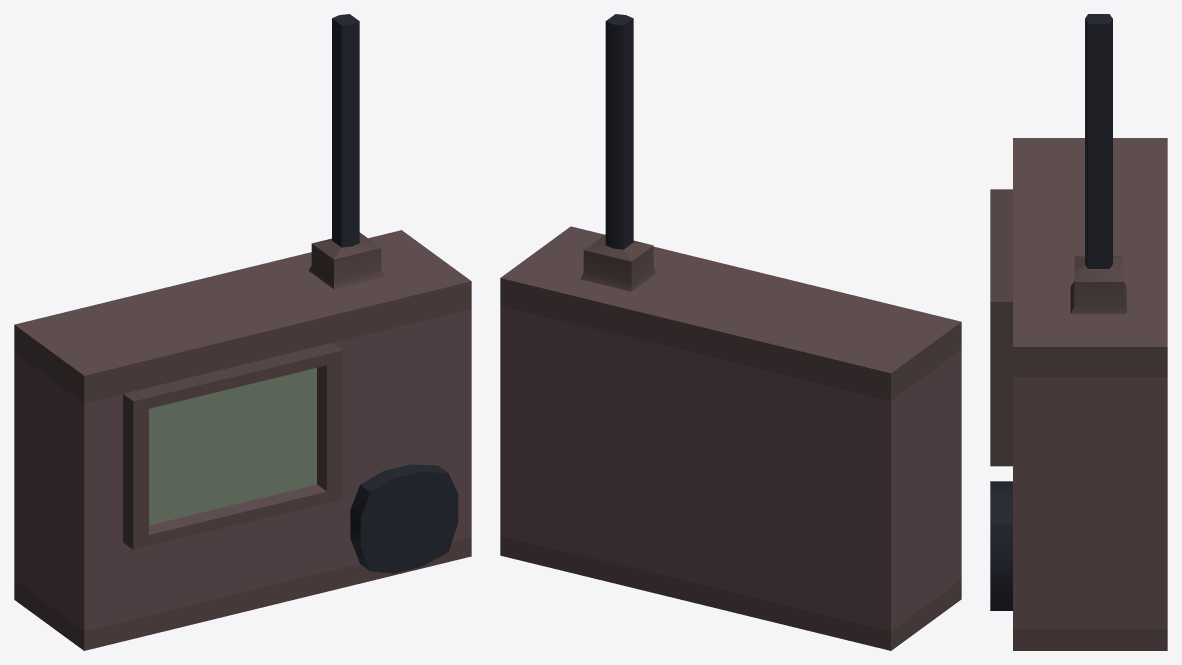
The model's file is radio.fbx.
3 views of the same model, side by side, from view 1: azimuth 30°, elevation 25°; view 2: azimuth 150°, elevation 25°; view 3: azimuth 270°, elevation 25° (orthographic). The views are drawn at different scales.
Visible parts, largest first — view 1: pCube21; view 2: pCube21; view 3: pCube21.
Boxes of the visible parts, x1,y1,x2,y2 form: pCube21: (14,14,471,650); pCube21: (500,14,961,650); pCube21: (990,14,1167,650).
Bounding box in the file's own units: 1.47 × 1.92 × 0.5289.
